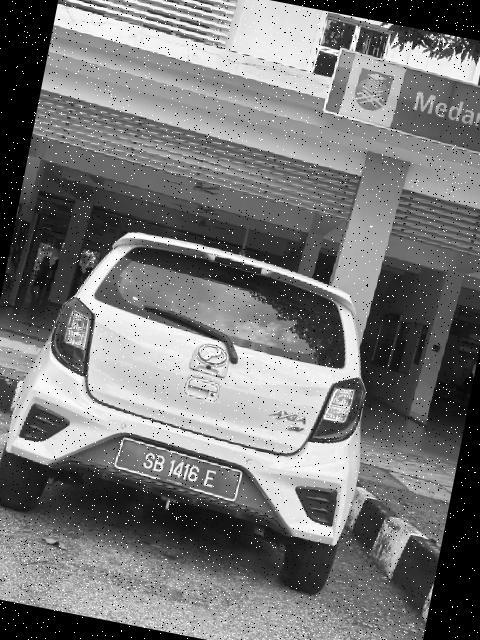License_Plate: (110, 434, 249, 508)
SB1416E: (110, 434, 249, 508)
car: (1, 199, 406, 611)
